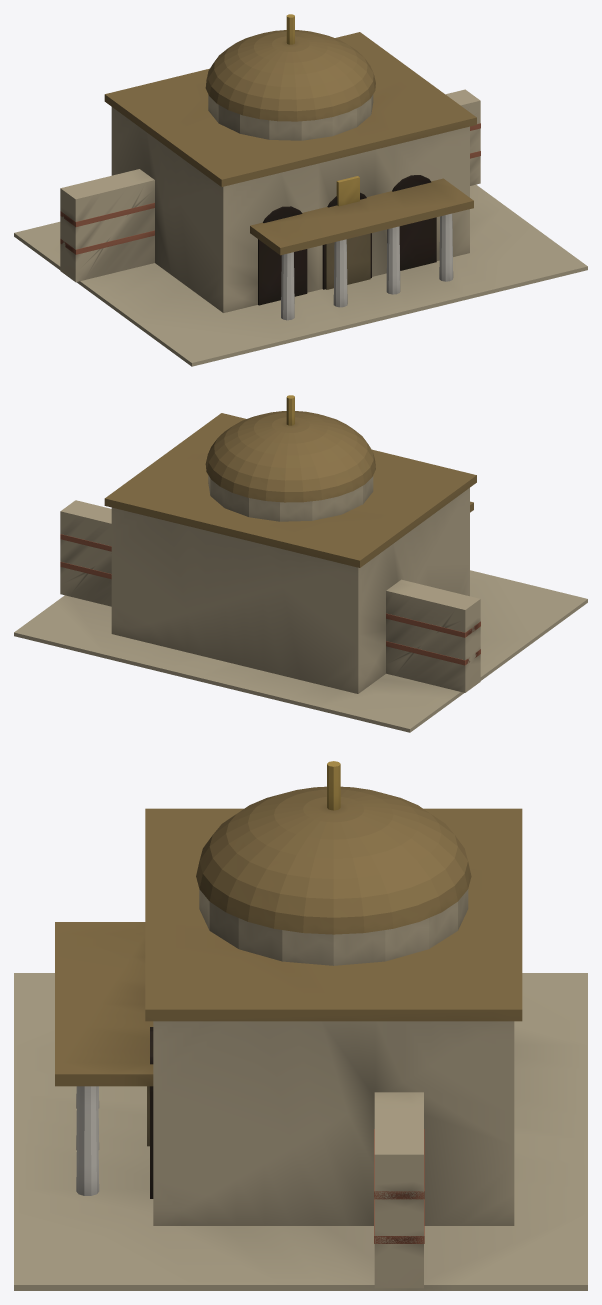
The model's file is chalke.glb.
3 renders of one model, top to bottom at view 1: azimuth 30°, elevation 25°; view 2: azimuth 150°, elevation 25°; view 3: azimuth 270°, elevation 25°, orthographic. The views are drawn at different scales.
Visible parts, largest first — view 1: p0_hall, p1_dome, p2_porch; view 2: p0_hall, p1_dome; view 3: p0_hall, p1_dome, p2_porch.
Part boxes in pixels (bbox=[...]): p0_hall: bbox=[14, 89, 587, 366]; p1_dome: bbox=[104, 14, 476, 186]; p2_porch: bbox=[250, 178, 473, 320]; p0_hall: bbox=[14, 488, 587, 732]; p1_dome: bbox=[104, 395, 476, 567]; p0_hall: bbox=[14, 973, 587, 1290]; p1_dome: bbox=[145, 761, 522, 1021]; p2_porch: bbox=[55, 922, 153, 1195].
Size of the model in its own units: 46 by 24.96 by 35.
